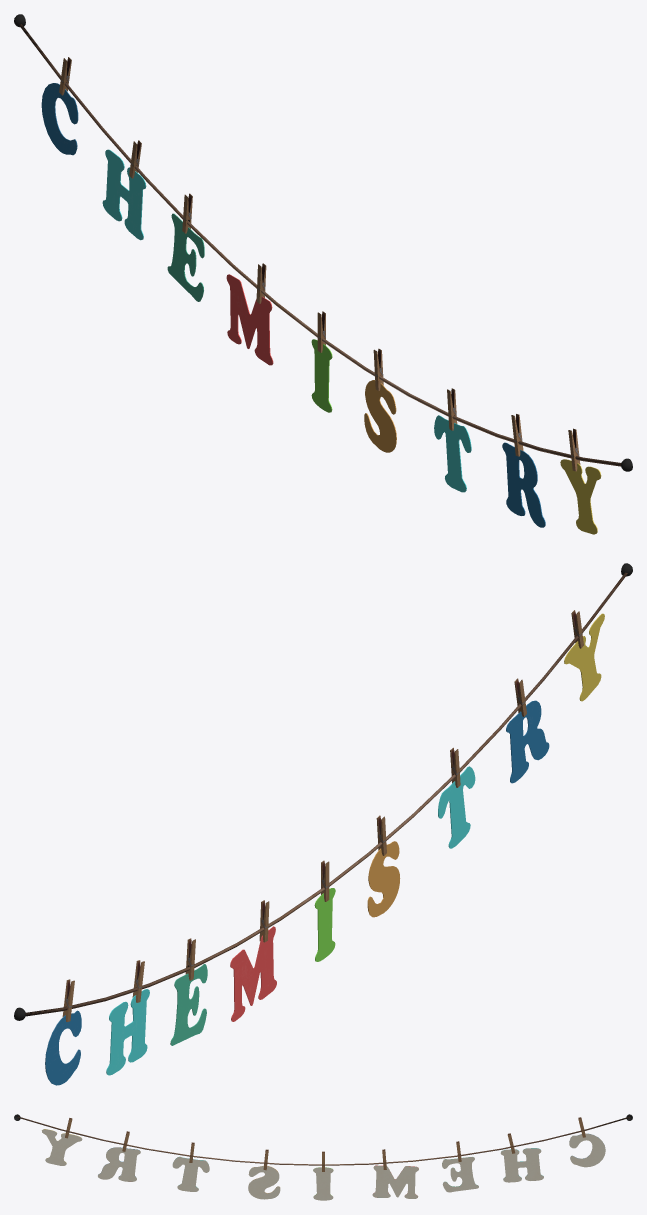
The model's file is SM_Hanging_Letters_01aChem.fbx.
3 renders of one model, top to bottom at view 1: azimuth 30°, elevation 25°; view 2: azimuth 150°, elevation 25°; view 3: azimuth 270°, elevation 25°, orthographic. The views are drawn at different scales.
Visible parts, largest first — view 1: SM_Hanging_Letters_01aChem_LOD0; view 2: SM_Hanging_Letters_01aChem_LOD0; view 3: SM_Hanging_Letters_01aChem_LOD0.
Boxes of the visible parts, x1,y1,x2,y2 form: SM_Hanging_Letters_01aChem_LOD0: [14, 14, 632, 534]; SM_Hanging_Letters_01aChem_LOD0: [14, 563, 632, 1085]; SM_Hanging_Letters_01aChem_LOD0: [14, 1114, 632, 1200].
Size of the model in its own units: 1.52 by 201 by 30.99.
Materials: 1 (1 with a texture image).
